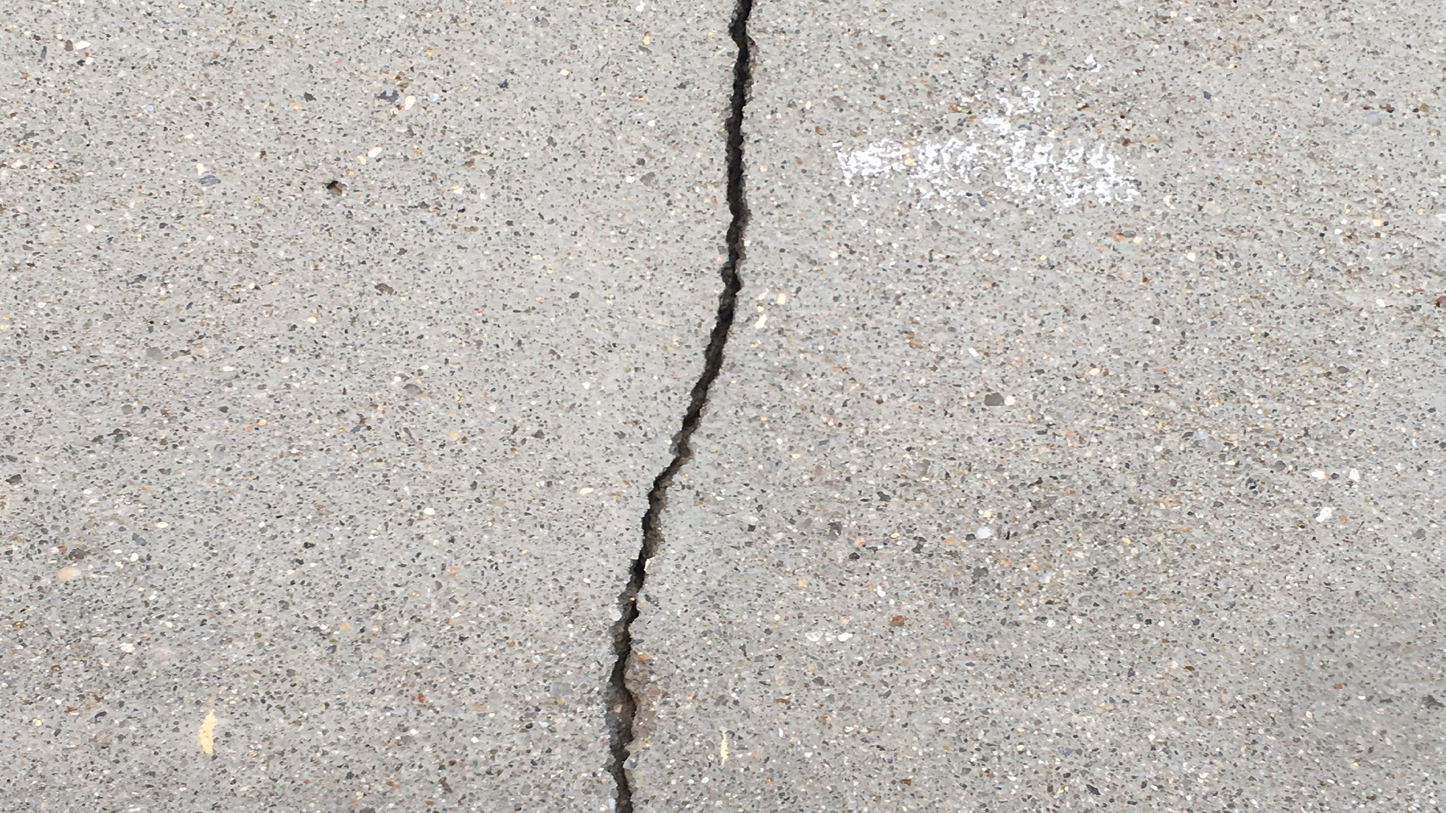crack: (608, 0, 755, 809)
